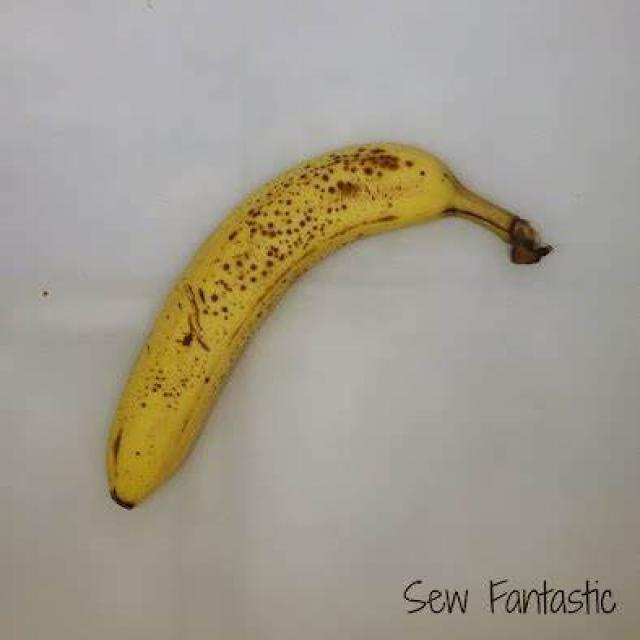Banana: (85, 137, 549, 518)
